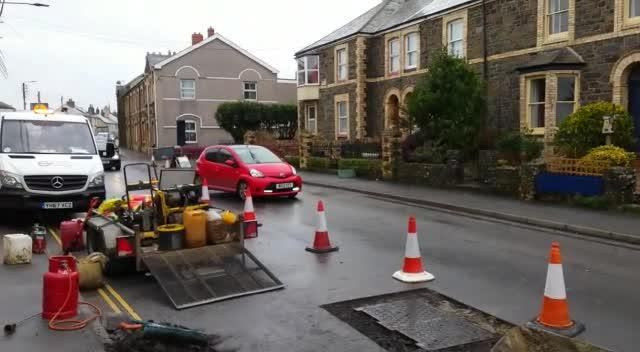cone: (523, 239, 590, 341), (385, 214, 440, 285), (298, 198, 343, 260), (230, 185, 264, 236), (195, 174, 216, 217)
